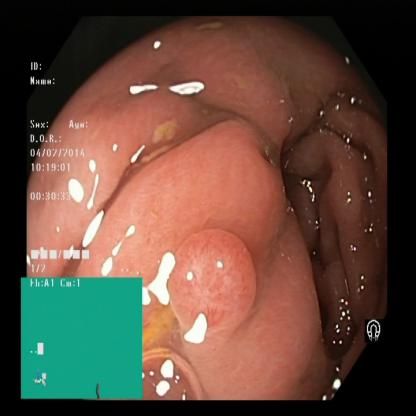Labels: (27, 60, 102, 276), (22, 275, 141, 401), (362, 308, 392, 348)
Polyps: (184, 125, 294, 249), (174, 225, 260, 336)
